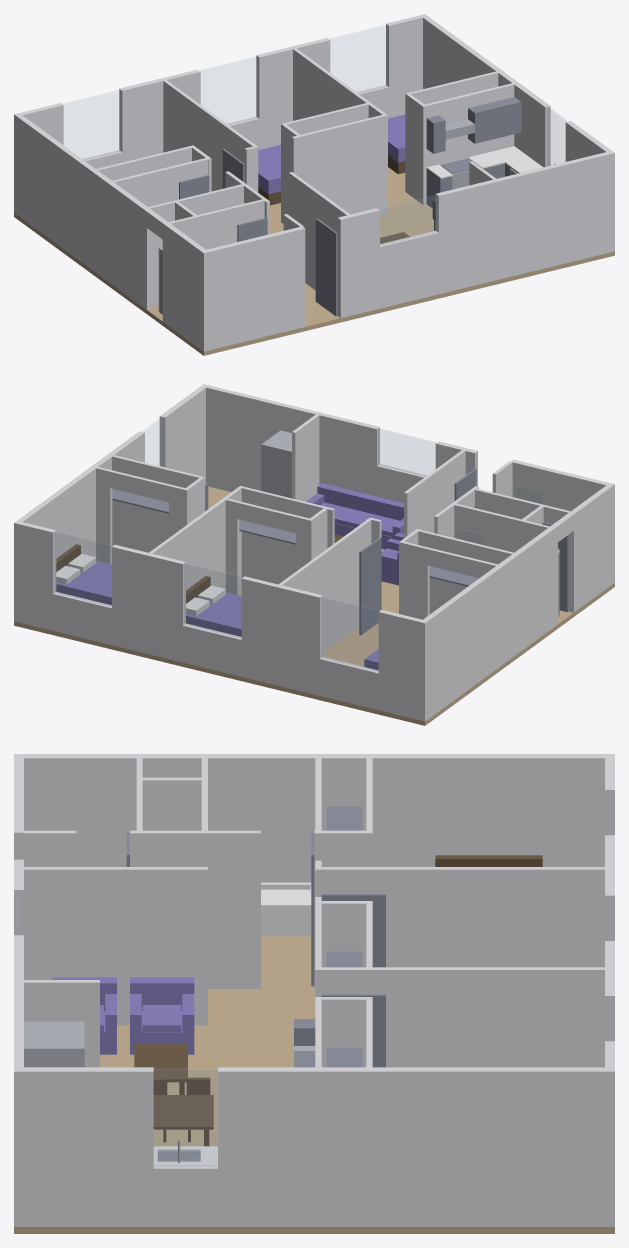
File: adu-1050.glb
3 views of the same model, one above another, from view 1: azimuth 30°, elevation 25°; view 2: azimuth 150°, elevation 25°; view 3: azimuth 270°, elevation 25° (orthographic). The views are drawn at different scales.
Parts seen in each view (by area): view 1: wall_south_2, wall_west_0, wall_south_0, wall_bedback_2, slab, wall_east_0, wall_south_1, wall_spine_north_0, wall_west_1, wall_north_1, wall_north_2, wall_south_sill2 (+33 smaller); view 2: wall_west_0, wall_south_2, wall_north_1, wall_north_2, slab, wall_north_0, wall_spine_north_0, wall_east_0, wall_west_1, wall_north_3, wall_bed23_0, wall_bedback_2 (+40 smaller); view 3: wall_east_0, wall_west_0, wall_bed23_0, wall_spine_north_0, wall_spine_south_0, wall_east_1, slab, wall_west_1, wall_bathblock_1, glass_kitchen, wall_east_sill1, wall_kitchen_return_0 (+28 smaller).
Boxes of the visible parts, <box> form: wall_south_2: <box>435,151,614,294</box>; wall_west_0: <box>17,115,152,309</box>; wall_south_0: <box>200,226,305,351</box>; wall_bedback_2: <box>291,114,387,215</box>; slab: <box>14,167,614,355</box>; wall_east_0: <box>423,16,550,167</box>; wall_south_1: <box>337,208,379,317</box>; wall_spine_north_0: <box>163,80,255,191</box>; wall_west_1: <box>162,222,205,348</box>; wall_north_1: <box>119,69,200,162</box>; wall_north_2: <box>256,38,330,149</box>; wall_south_sill2: <box>380,230,438,308</box>; wall_west_0: <box>423,524,557,718</box>; wall_south_2: <box>201,384,379,496</box>; wall_north_1: <box>241,576,322,695</box>; wall_north_2: <box>112,544,185,662</box>; slab: <box>14,486,614,725</box>; wall_north_0: <box>378,610,428,721</box>; wall_spine_north_0: <box>278,519,371,653</box>; wall_east_0: <box>17,431,144,558</box>; wall_west_1: <box>568,485,611,612</box>; wall_north_3: <box>14,521,56,630</box>; wall_bed23_0: <box>149,486,242,589</box>; wall_bedback_2: <box>239,486,334,584</box>; wall_east_0: <box>218,1067,604,1226</box>; wall_west_0: <box>194,754,604,882</box>; wall_bed23_0: <box>315,967,604,1067</box>; wall_spine_north_0: <box>321,867,604,967</box>; wall_spine_south_0: <box>24,867,207,1025</box>; wall_east_1: <box>24,1067,153,1226</box>; slab: <box>14,936,614,1233</box>; wall_west_1: <box>24,754,144,866</box>; wall_bathblock_1: <box>201,830,260,988</box>; glass_kitchen: <box>154,1069,217,1166</box>; wall_east_sill1: <box>153,1164,217,1226</box>; wall_kitchen_return_0: <box>24,980,99,1067</box>.
Size of the model in its own units: 10.67 by 2.55 by 8.53.
